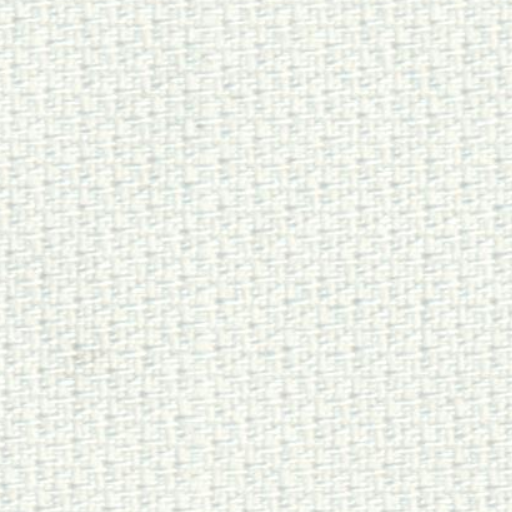TuoSha: (164, 18, 254, 500)
